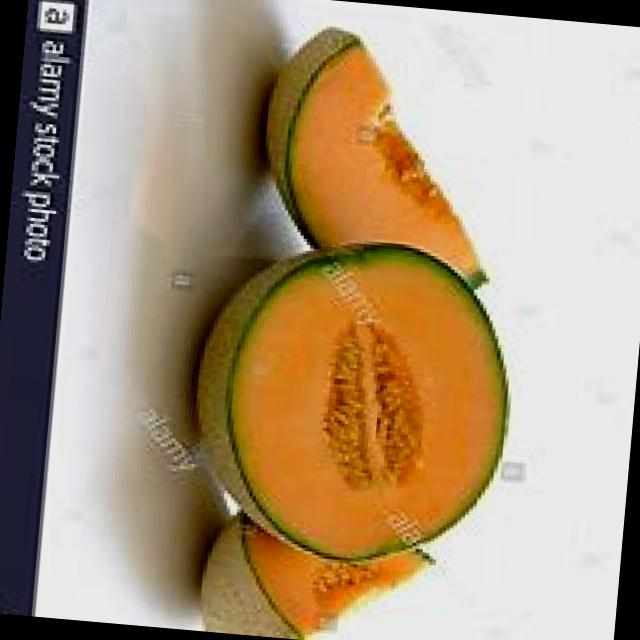cantaloupe: (179, 228, 526, 576), (252, 23, 509, 289)
